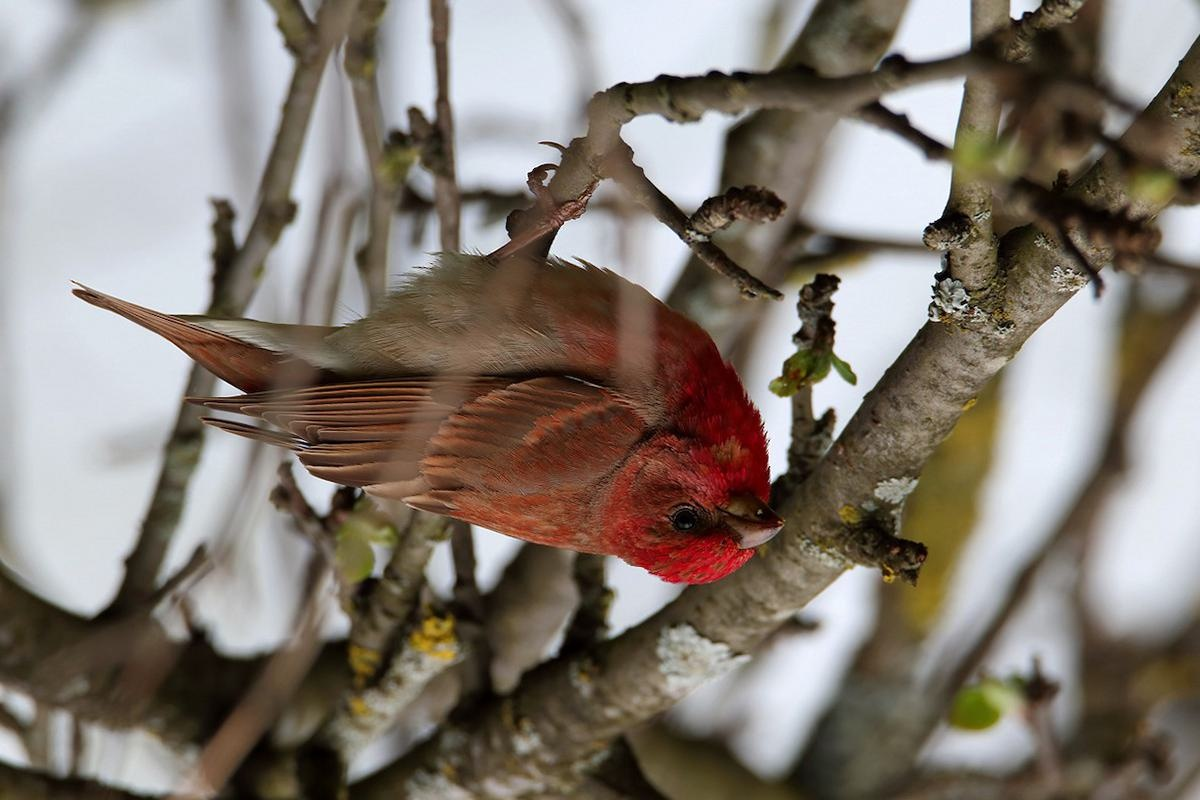rosefinch: (176, 232, 803, 600)
